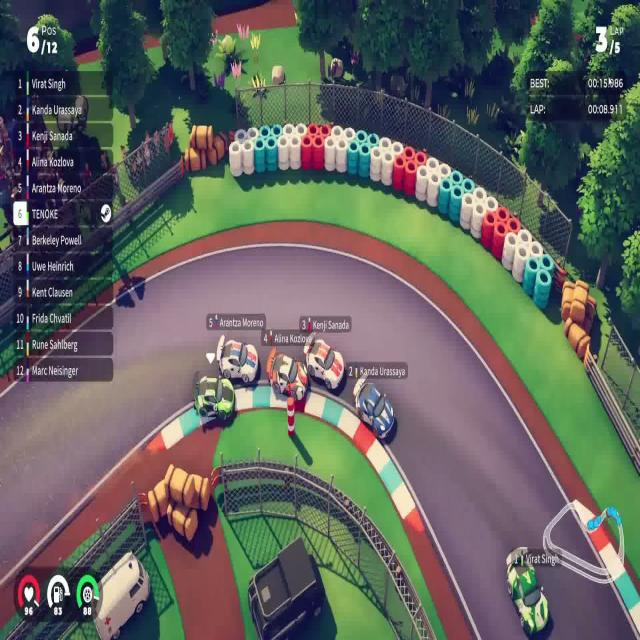car: (505, 544, 549, 636), (352, 374, 395, 441), (266, 345, 309, 402), (303, 334, 345, 391), (193, 373, 236, 423), (218, 338, 258, 386)
